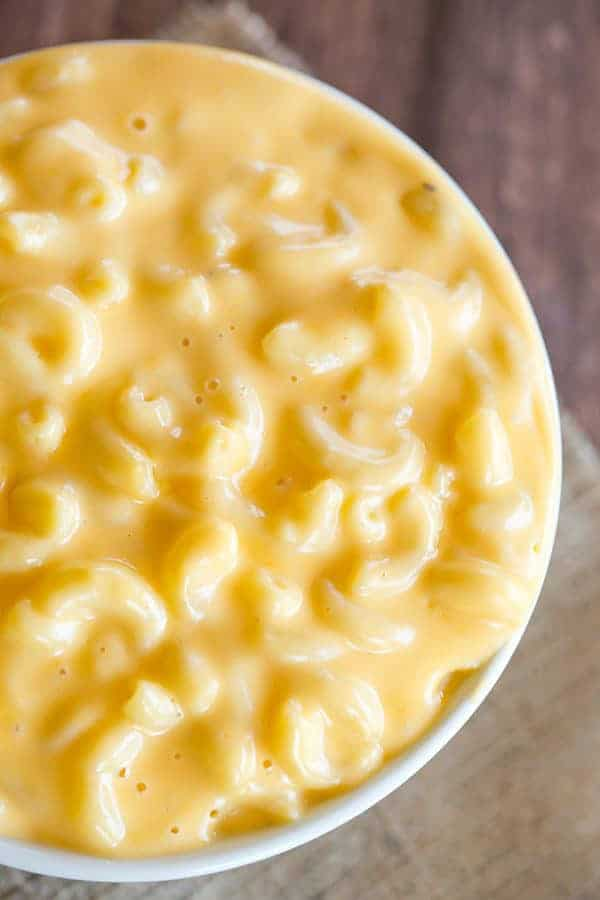cheese: (122, 218, 393, 490)
